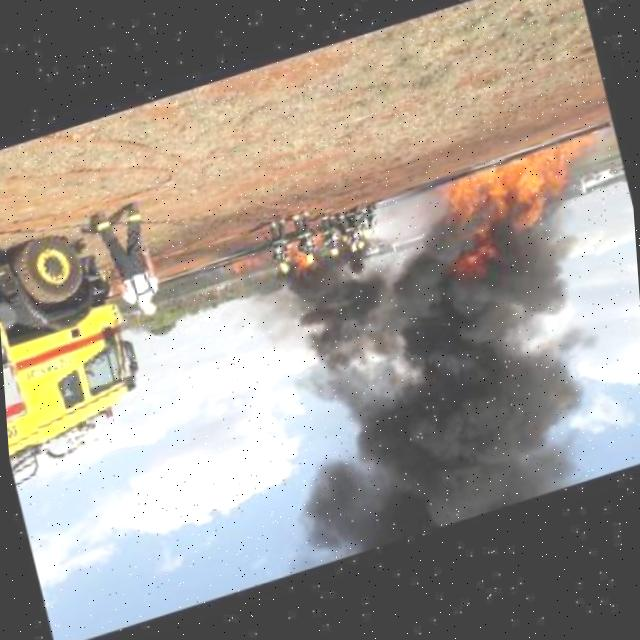fire: (434, 137, 622, 254), (452, 248, 504, 288), (229, 256, 268, 283), (288, 244, 316, 281)
